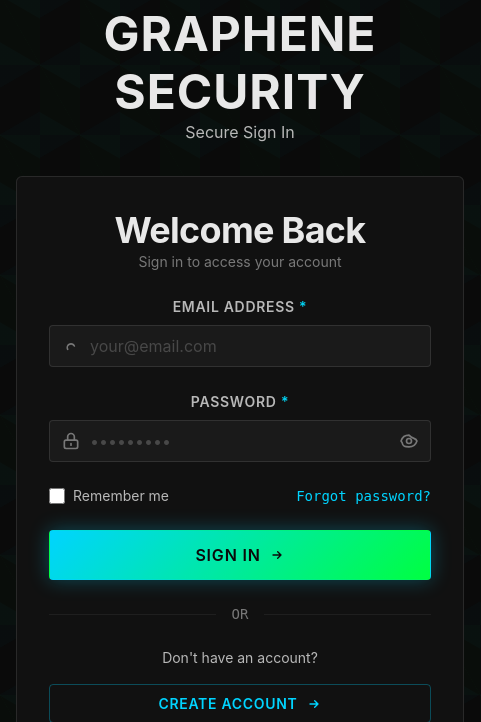
Test: LoginPage › Form Submission › should handle login errors
Note: Fill and submit form
Step 1. Type "john.doe@example.com" into the field labelled "Email Address *" → [240, 346], box [49,325,431,367]
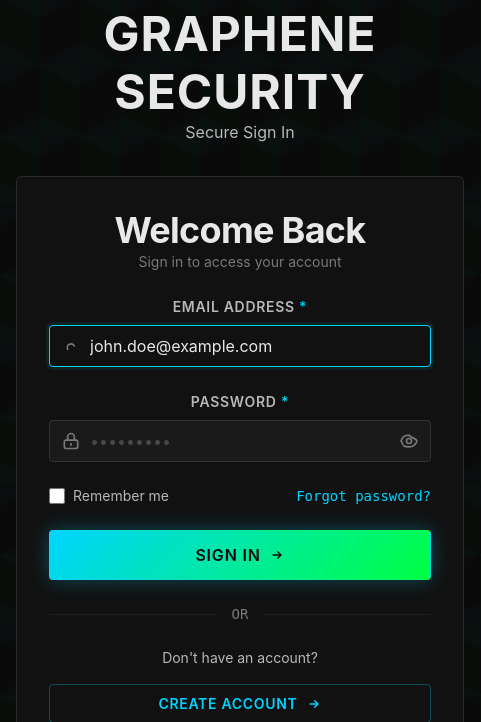
Step 2. Type "SecurePass123!" into the password field labelled "Password *" → [240, 441], box [49,420,431,462]
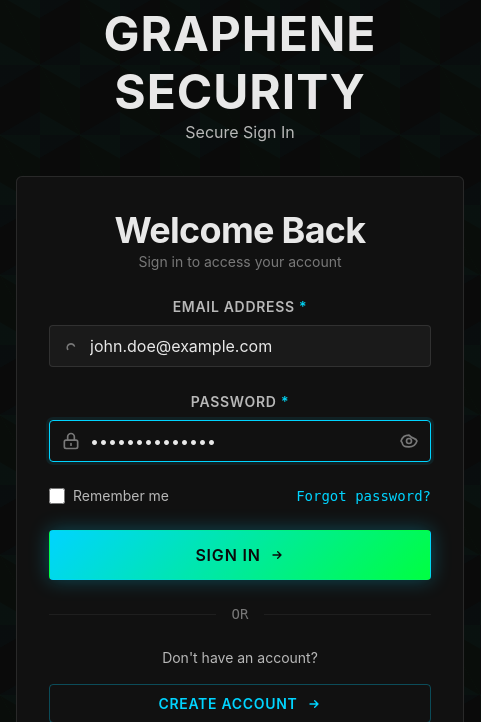
Step 3. Click the button "Sign In" → [240, 555], box [49,530,431,580]
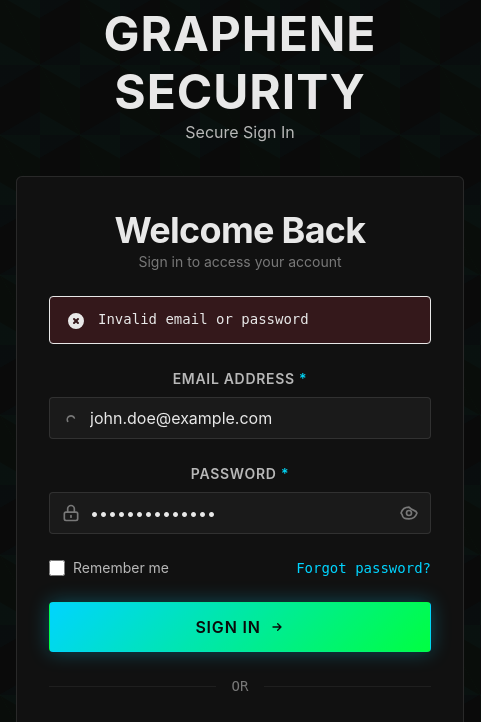
Expected: the text "Invalid email or password" is shown, [98,309,309,329]
